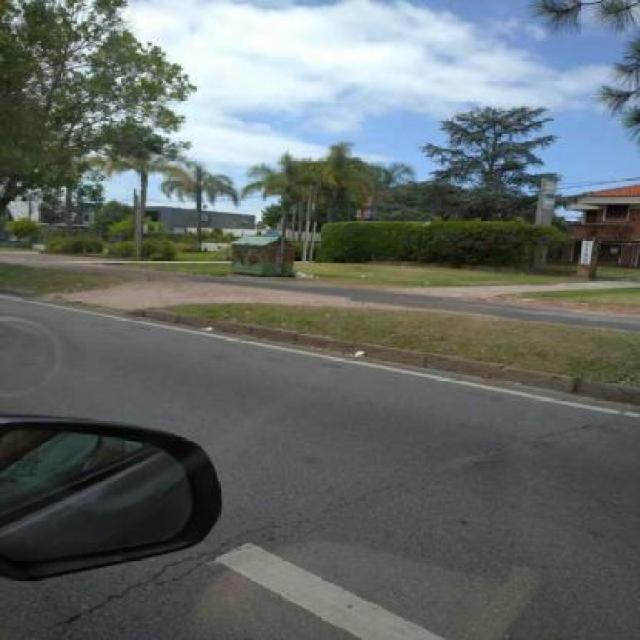garbage: (292, 266, 326, 283), (339, 348, 380, 361), (188, 322, 222, 334)
